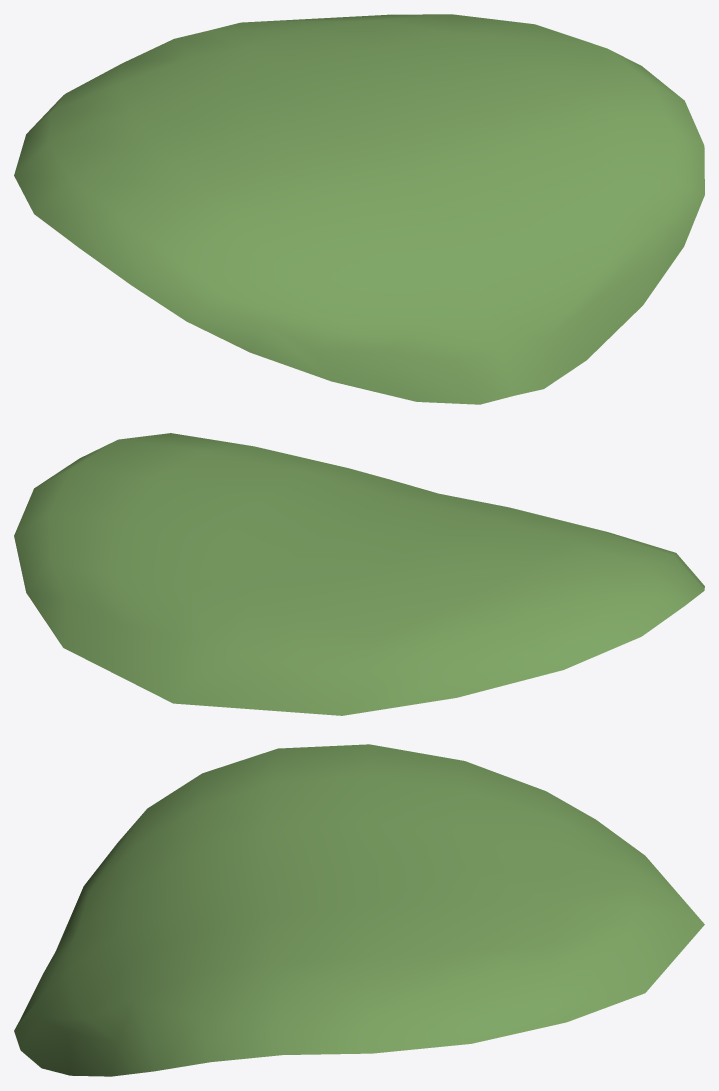
Rendered from MOD_BigLeaf03.fbx.
The picture shows the model from 3 angles, top to bottom: view 1: azimuth 30°, elevation 25°; view 2: azimuth 150°, elevation 25°; view 3: azimuth 270°, elevation 25°; orthographic projection.
Parts seen in each view (by area): view 1: MOD_BigLeaf03; view 2: MOD_BigLeaf03; view 3: MOD_BigLeaf03.
Boxes of the visible parts, box(x1,y1,x2,y2) form: MOD_BigLeaf03: box(14, 14, 704, 404); MOD_BigLeaf03: box(14, 433, 704, 715); MOD_BigLeaf03: box(14, 744, 704, 1076).
Size of the model in its own units: 8.1 by 2.14 by 7.9.
